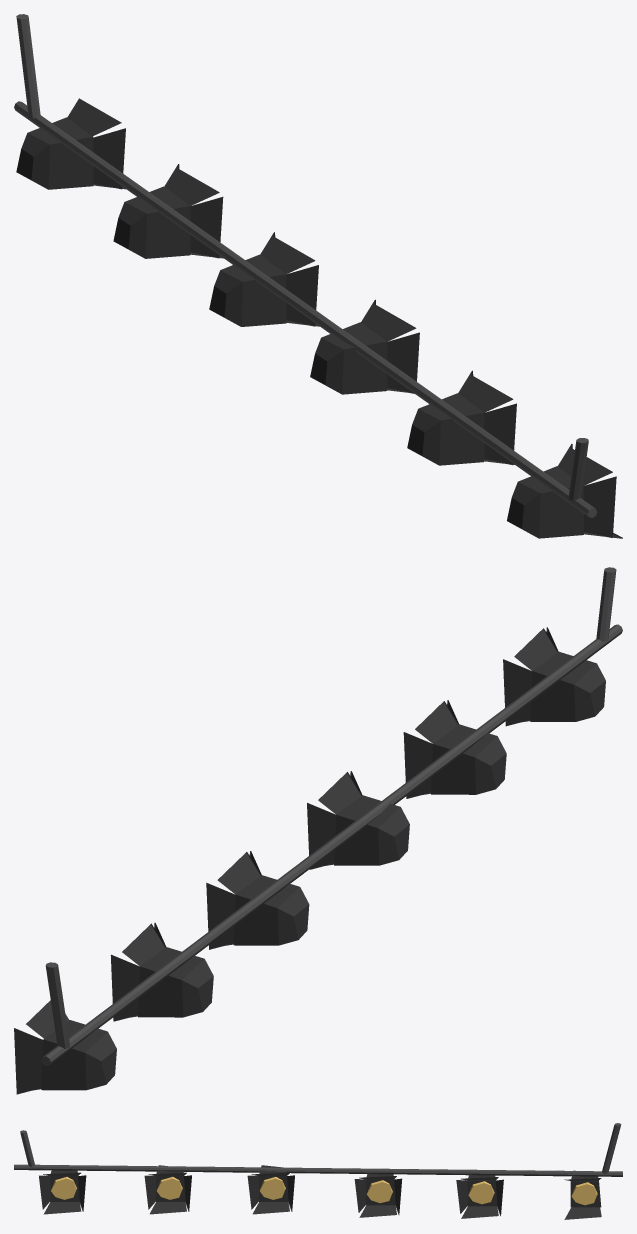
The model's file is 0Focos.fbx.
The picture shows the model from 3 angles, top to bottom: view 1: azimuth 30°, elevation 25°; view 2: azimuth 150°, elevation 25°; view 3: azimuth 270°, elevation 25°; orthographic projection. The views are drawn at different scales.
Visible parts, largest first — view 1: Plane.001; view 2: Plane.001; view 3: Plane.001.
Part boxes in pixels (x1,y1,x2,y2): Plane.001: [14, 14, 622, 538]; Plane.001: [14, 567, 622, 1094]; Plane.001: [14, 1123, 622, 1219].
Bounding box in the file's own units: 53 × 85.23 × 586.
